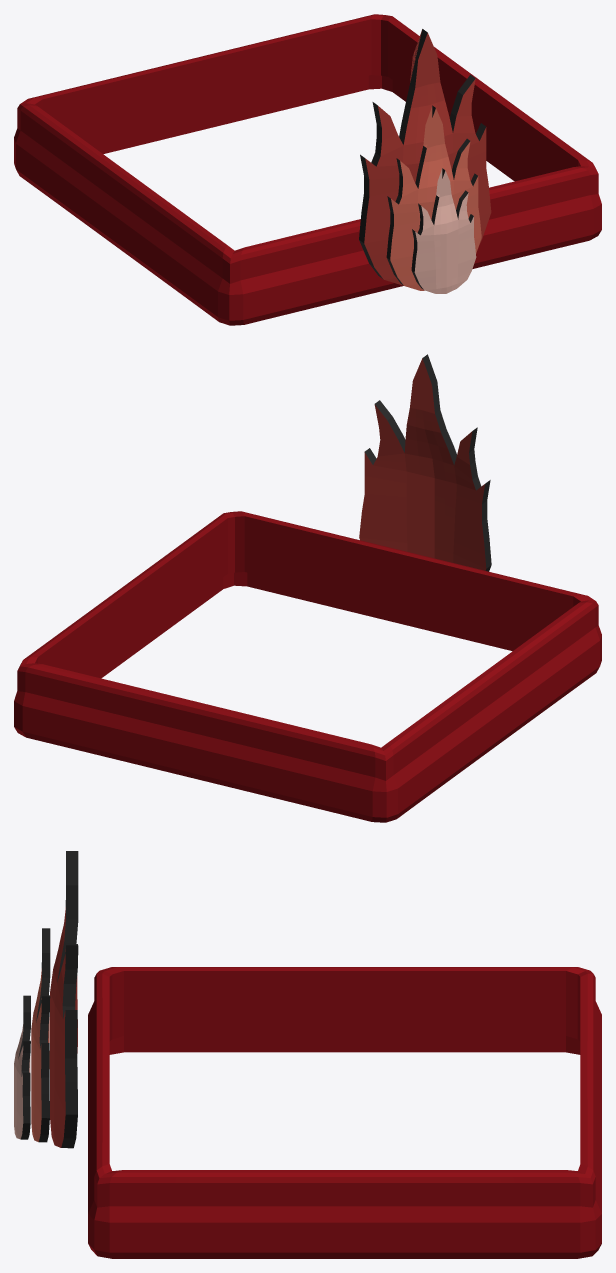
The model's file is CouronneFeu.fbx.
The picture shows the model from 3 angles, top to bottom: view 1: azimuth 30°, elevation 25°; view 2: azimuth 150°, elevation 25°; view 3: azimuth 270°, elevation 25°; orthographic projection. The views are drawn at different scales.
Visible parts, largest first — view 1: CouronneFeu; view 2: CouronneFeu; view 3: CouronneFeu.
Boxes of the visible parts, x1,y1,x2,y2 form: CouronneFeu: (14,14,601,325); CouronneFeu: (14,354,601,822); CouronneFeu: (14,851,601,1258).
Bounding box in the file's own units: 207 × 135 × 237.
